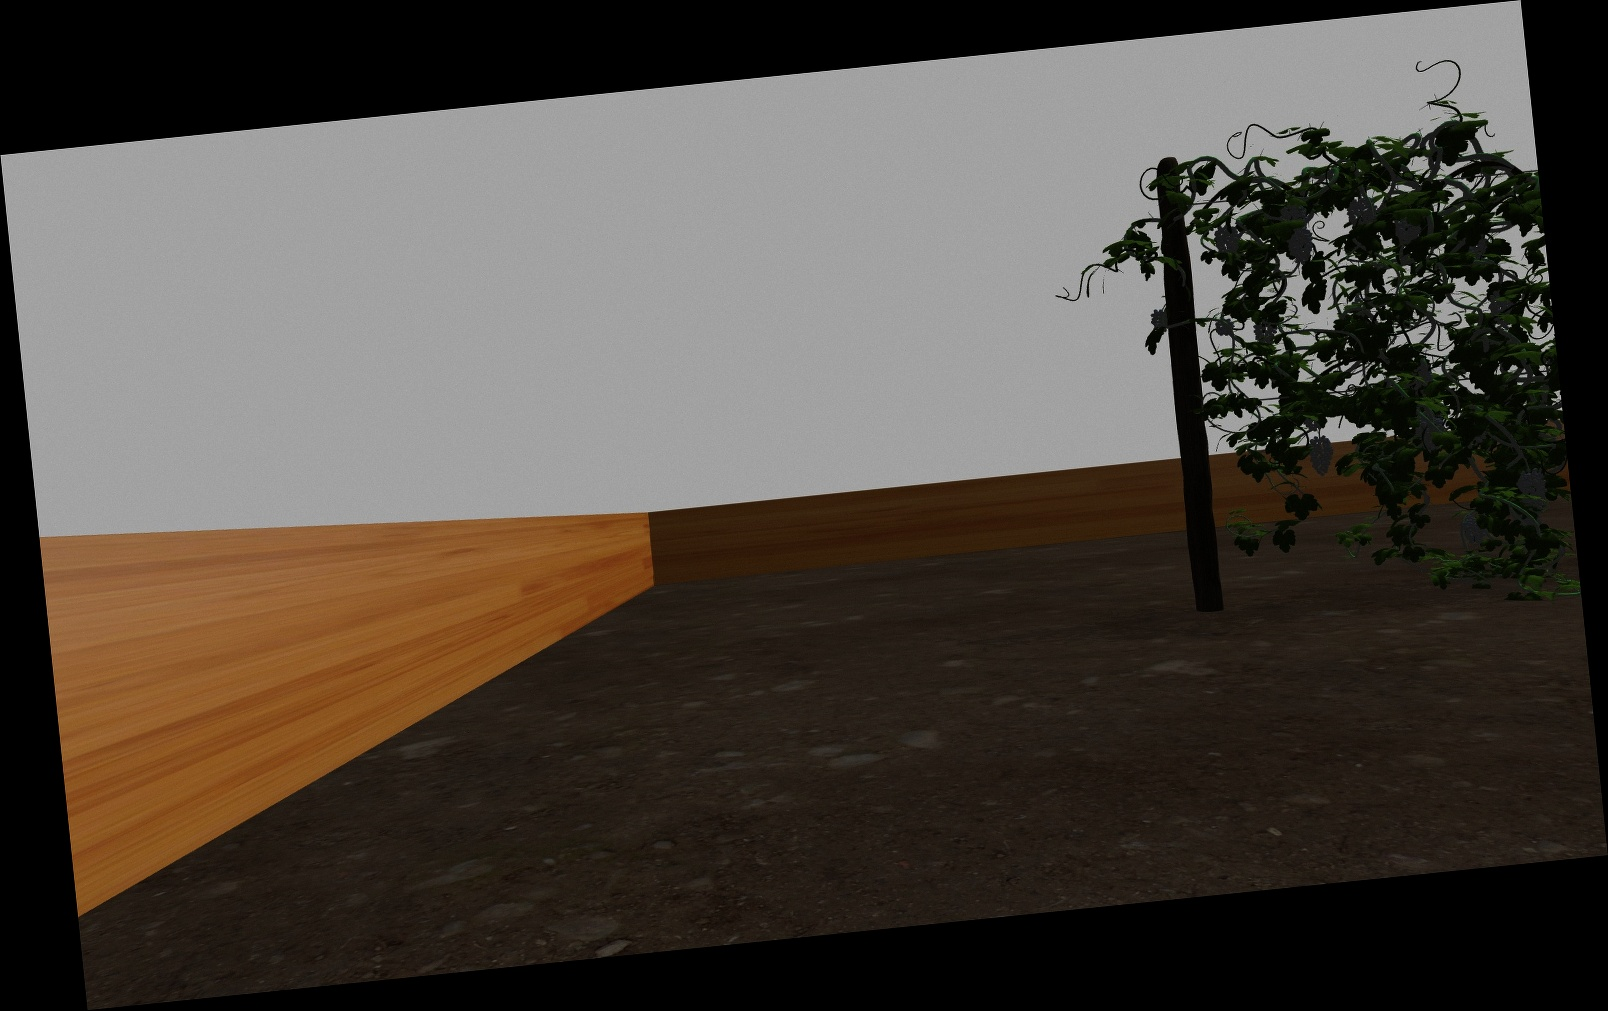grape: (1517, 467, 1547, 509), (1306, 434, 1333, 479), (1285, 227, 1315, 266), (1394, 210, 1421, 247), (1213, 226, 1239, 259), (1462, 511, 1485, 547), (1348, 197, 1375, 225), (1253, 318, 1274, 347), (1152, 307, 1168, 332), (1214, 319, 1235, 338)
